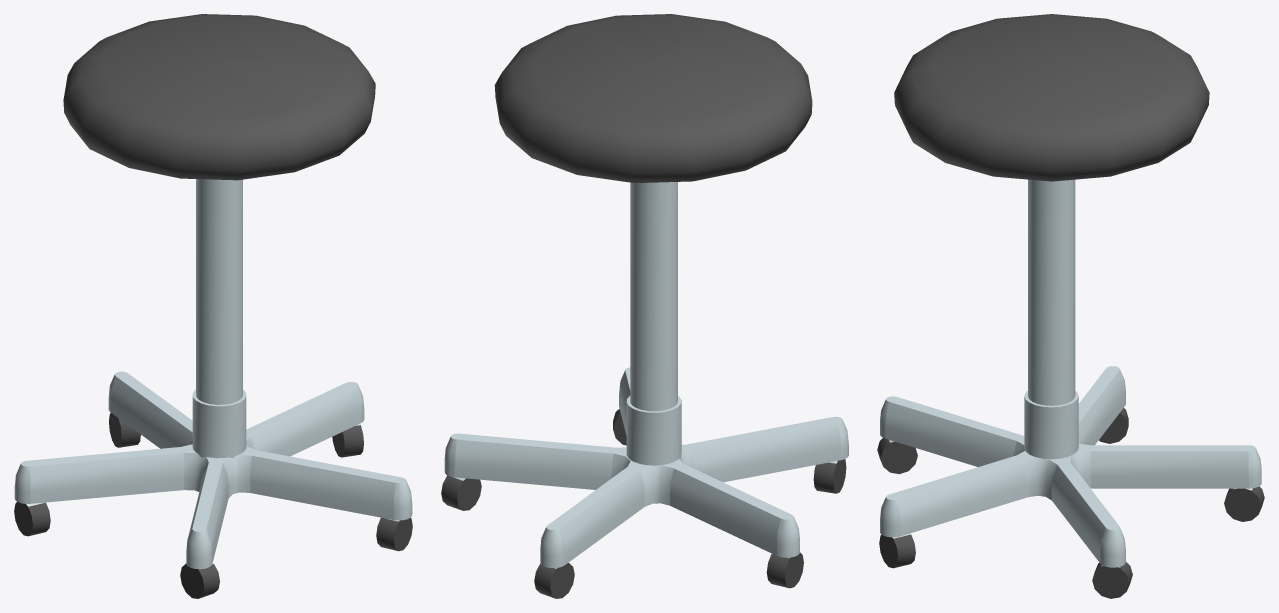
The model's file is sweethome3d-contributions-stool.glb.
The picture shows the model from 3 angles, left to right: view 1: azimuth 30°, elevation 25°; view 2: azimuth 150°, elevation 25°; view 3: azimuth 270°, elevation 25°; orthographic projection.
Parts seen in each view (by area): view 1: Stool_Object01870_2, Stool_Object01_1, Stool_Object011048_3; view 2: Stool_Object01870_2, Stool_Object01_1, Stool_Object011048_3; view 3: Stool_Object01_1, Stool_Object01870_2, Stool_Object011048_3.
Boxes of the visible parts, <box> form: Stool_Object01870_2: <box>63,14,375,180</box>; Stool_Object01_1: <box>14,179,412,569</box>; Stool_Object011048_3: <box>14,413,412,598</box>; Stool_Object01870_2: <box>494,14,812,182</box>; Stool_Object01_1: <box>444,182,848,568</box>; Stool_Object011048_3: <box>441,409,846,598</box>; Stool_Object01_1: <box>880,179,1261,567</box>; Stool_Object01870_2: <box>894,14,1209,181</box>; Stool_Object011048_3: <box>877,408,1264,598</box>.
Size of the model in its own units: 38.89 by 48.89 by 37.65.
